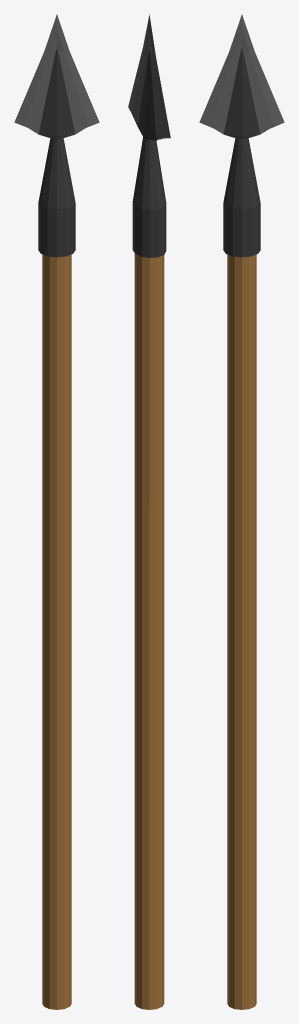
Rendered from Spear.fbx.
The picture shows the model from 3 angles, left to right: view 1: azimuth 90°, elevation 25°; view 2: azimuth 210°, elevation 25°; view 3: azimuth 270°, elevation 25°; orthographic projection.
Visible parts, largest first — view 1: SpearHandle, Spearhead; view 2: SpearHandle, Spearhead; view 3: SpearHandle, Spearhead.
Part boxes in pixels (<box>): SpearHandle: <box>42,254,71,1009</box>; Spearhead: <box>14,14,99,257</box>; SpearHandle: <box>134,253,164,1009</box>; Spearhead: <box>128,14,170,257</box>; SpearHandle: <box>227,254,256,1009</box>; Spearhead: <box>199,14,284,257</box>.
Bounding box in the file's own units: 173 × 5805 × 454.
